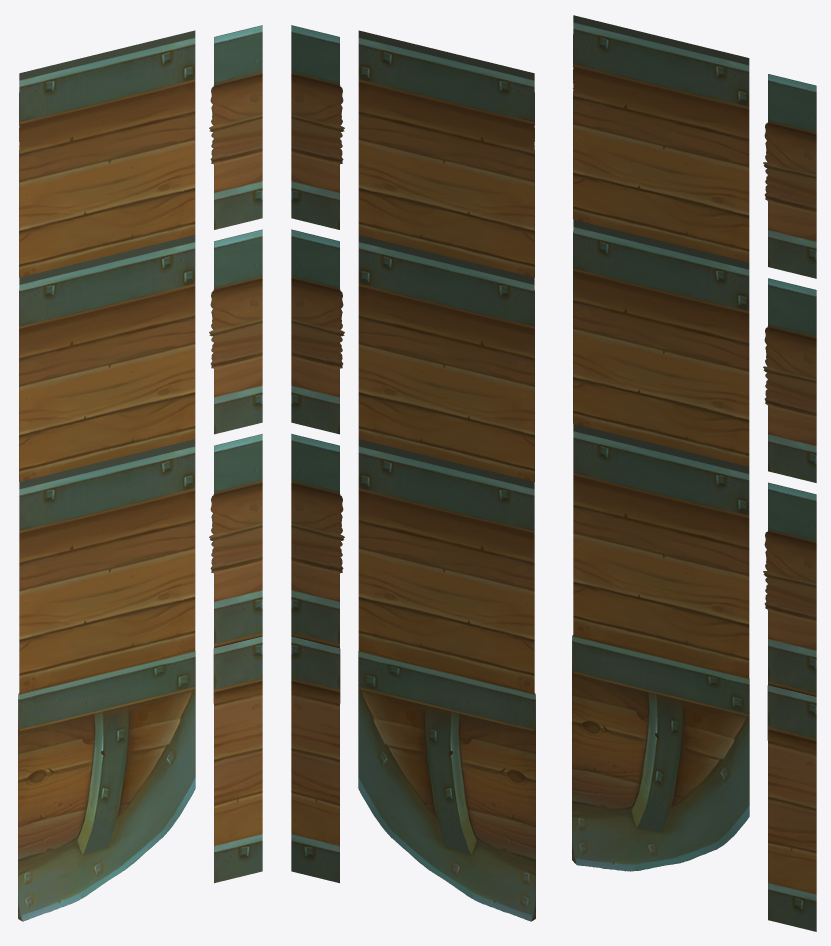
File: 100404@skin.FBX
3 views of the same model, side by side, from view 1: azimuth 30°, elevation 25°; view 2: azimuth 150°, elevation 25°; view 3: azimuth 330°, elevation 25° (orthographic).
Visible parts, largest first — view 1: body; view 2: body; view 3: body.
Part boxes in pixels (bbox=[...]): body: bbox=[18, 25, 262, 921]; body: bbox=[291, 25, 535, 921]; body: bbox=[572, 15, 816, 931].
Bounding box in the file's own units: 40 × 132 × 0.
